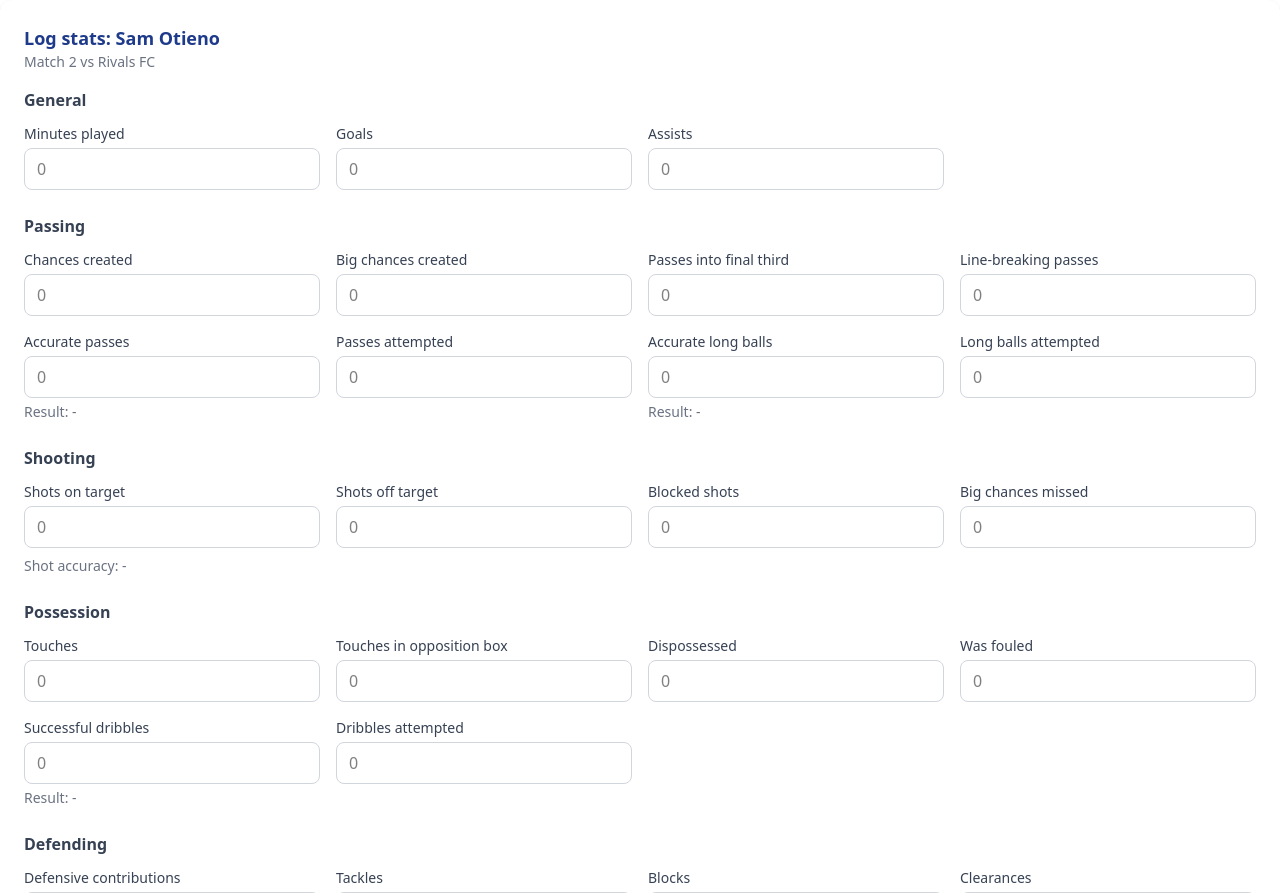
Test case: rejects more made than attempted
Type "90" into the number field labelled "Minutes played". click: (172, 169)
box: 24,148 -> 320,190
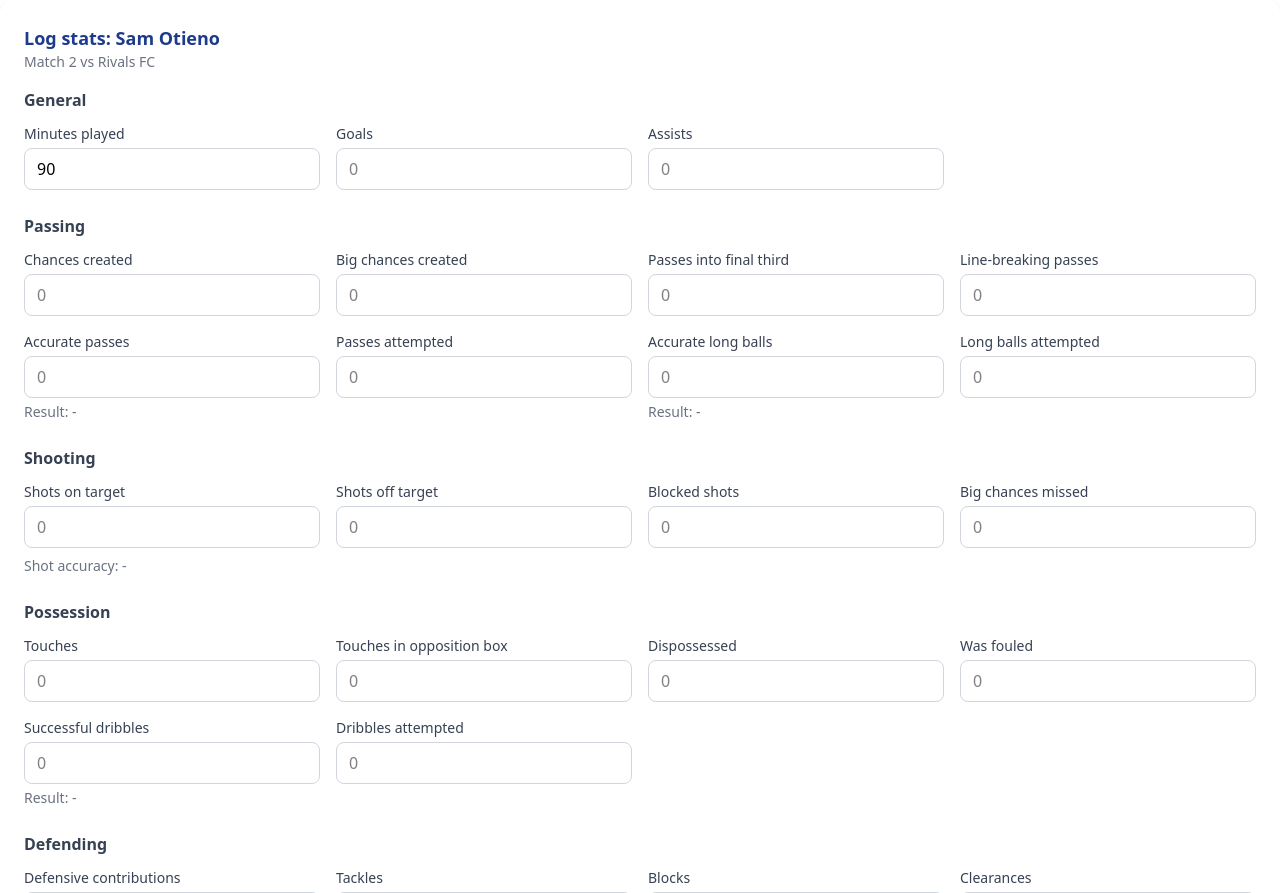
Type "5" into the number field labelled "Accurate passes". click: (172, 377)
box: 24,356 -> 320,398
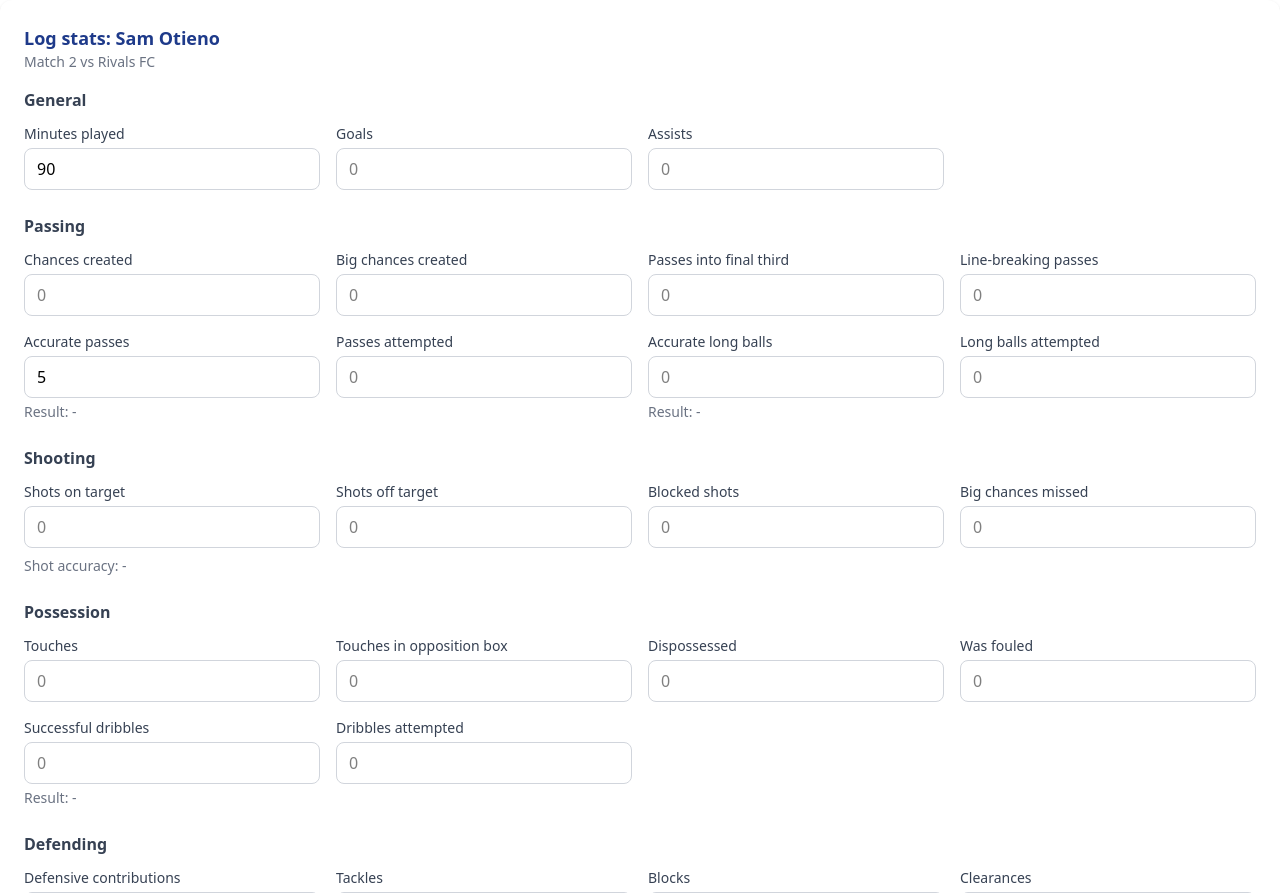
Type "3" into the number field labelled "Passes attempted". click: (484, 377)
box: 336,356 -> 632,398
(page scrolled)
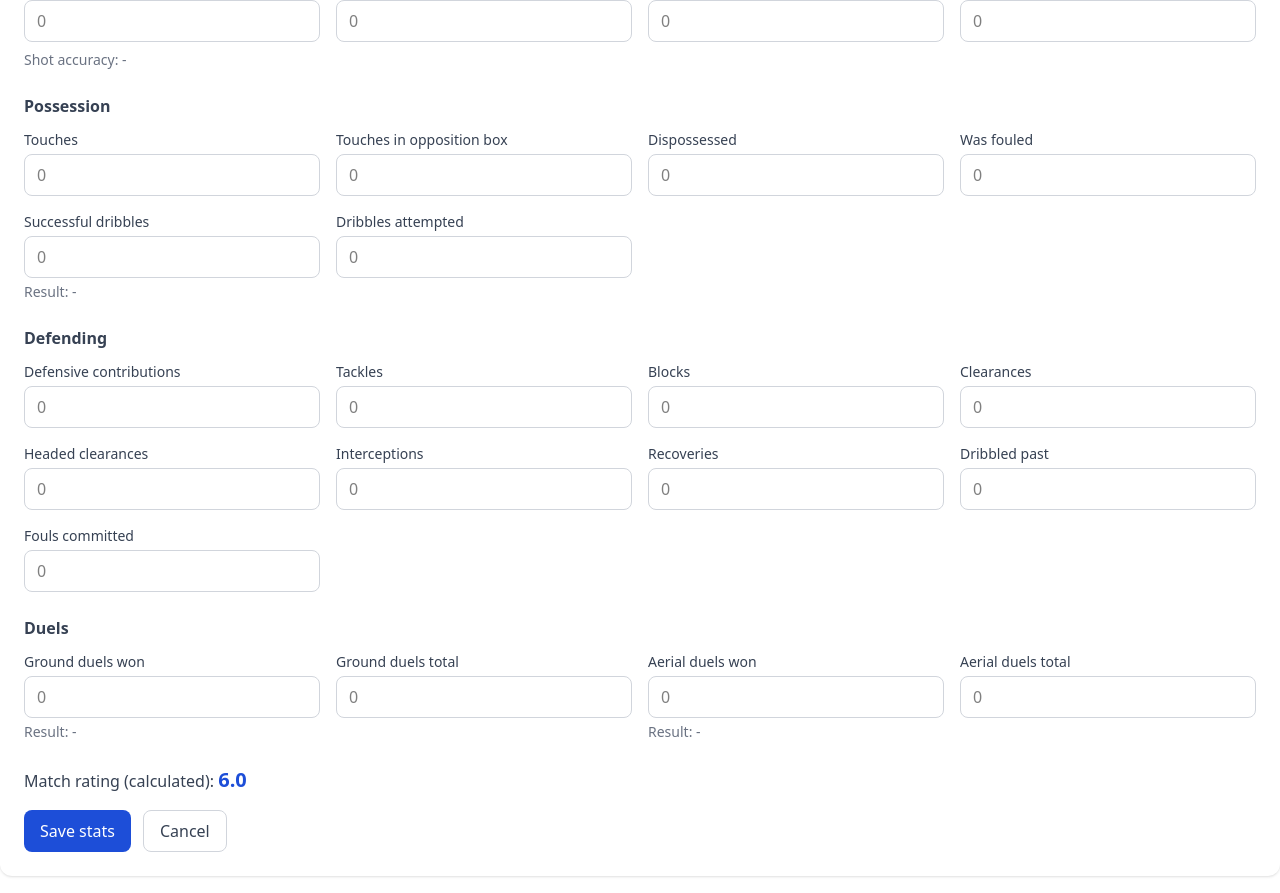
Click the button "Save stats". click: (77, 831)
box: 24,810 -> 131,852
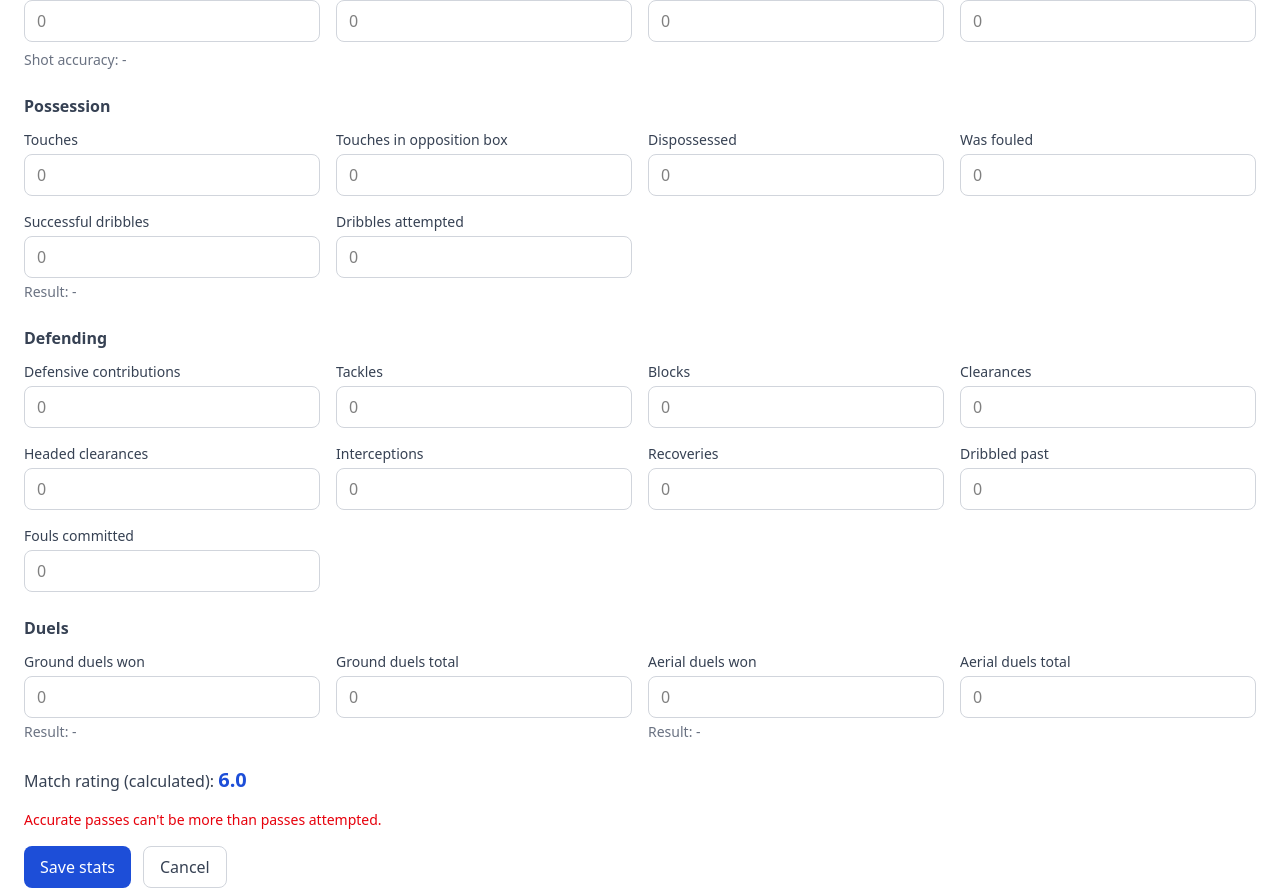
Expected: the text "Accurate passes can't be more than passes attempted." is shown, 24,810 -> 382,829
